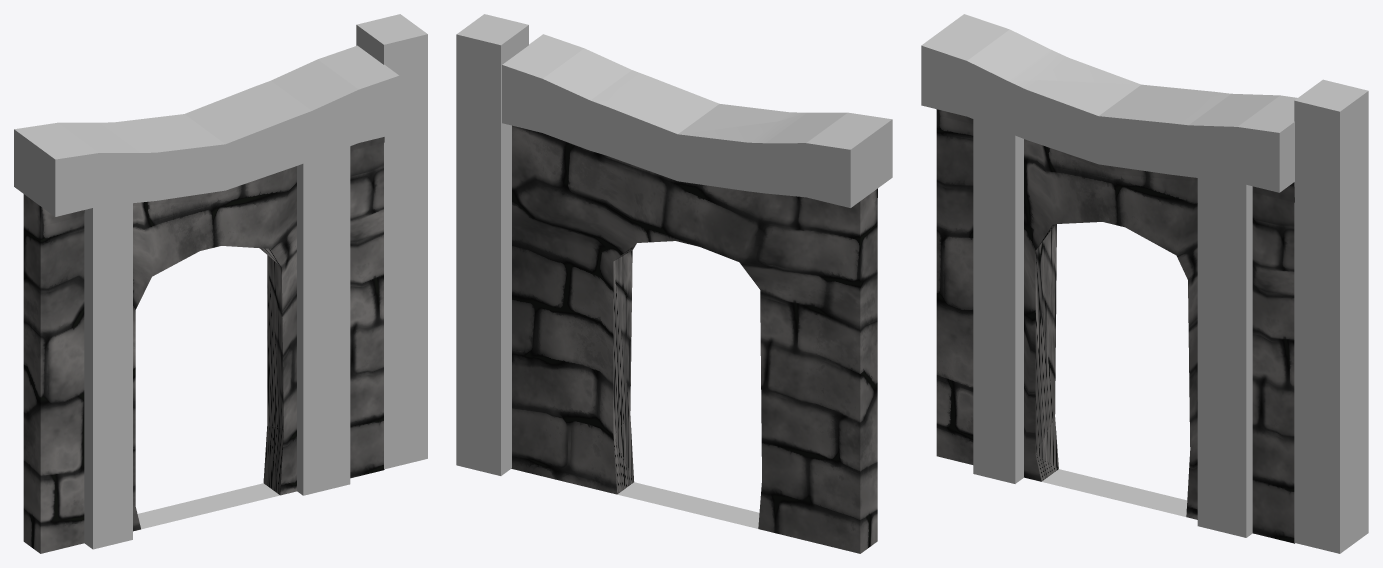
File: grote deuropening.fbx
The picture shows the model from 3 angles, left to right: view 1: azimuth 30°, elevation 25°; view 2: azimuth 150°, elevation 25°; view 3: azimuth 330°, elevation 25°; orthographic projection. The views are drawn at different scales.
Parts seen in each view (by area): view 1: muur3; view 2: muur3; view 3: muur3.
Boxes of the visible parts, x1,y1,x2,y2 form: muur3: (14,14,427,553); muur3: (456,14,892,553); muur3: (921,14,1368,553).
Bounding box in the file's own units: 200 × 210 × 37.85.
